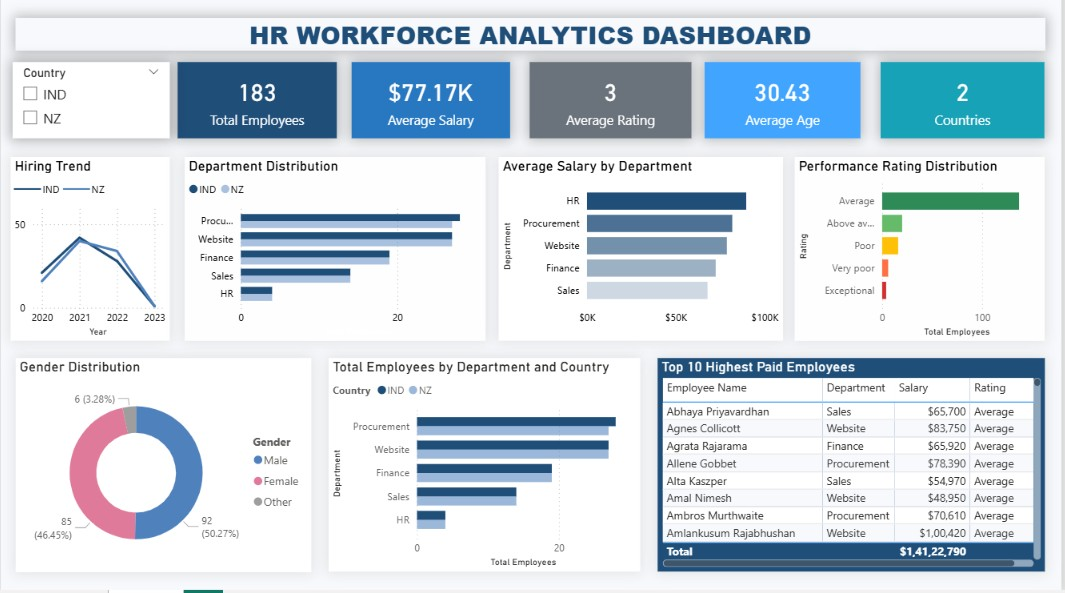

The dashboard page shown, as its layout file describes it:
{"tool":"powerbi","page":{"name":"Page 1","canvas":[1280,720],"ordinal":0},"visuals":[{"type":"textbox","title":"HR WORKFORCE ANALYTICS DASHBOARD","box":[17.7,29.6,1242,39],"z":0},{"type":"card","fields":{"Values":["Data.average salary"]},"box":[422.9,82.8,191,91.7],"z":1000},{"type":"card","fields":{"Values":["Data.Total Employees"]},"box":[212.9,82.8,192.2,91.7],"z":2000},{"type":"card","fields":{"Values":["Data.Average Age"]},"box":[849.3,83.2,188.2,91.7],"z":4000},{"type":"card","fields":{"Values":["Data.Average Rating"]},"box":[638.2,83.2,195.4,91.7],"z":5000},{"type":"card","fields":{"Values":["Data.Countries Count"]},"box":[1061.7,83.2,197.9,91.7],"z":6000},{"type":"lineChart","title":"Hiring Trend","fields":{"Category":["Data.Date Joined.Variation.Date Hierarchy.Year","Data.Date Joined.Variation.Date Hierarchy.Month","Data.Date Joined.Variation.Date Hierarchy.Day"],"Y":["Data.Total Employees"],"Series":["Data.Country"]},"box":[12.1,197.9,191.8,222],"z":7000},{"type":"clusteredBarChart","title":"Department Distribution","fields":{"Category":["Data.Department"],"Y":["Data.Total Employees"],"Series":["Data.Country"]},"box":[222,197.9,363.1,222],"z":8000},{"type":"clusteredBarChart","title":"Average Salary by Department","fields":{"Category":["Data.Department"],"Y":["Data.Average Salary"]},"box":[600.4,198.2,343.1,221.8],"z":9000},{"type":"clusteredBarChart","title":"Performance Rating Distribution","fields":{"Category":["Data.Rating"],"Y":["Data.Total Employees"]},"box":[958.2,198.2,301.7,221.8],"z":10000},{"type":"donutChart","title":"Gender Distribution","fields":{"Category":["Data.Gender"],"Y":["Data.Total Employees"]},"box":[18.1,440.4,357.1,258.2],"z":11000},{"type":"tableEx","title":"Top 10 Highest Paid Employees","fields":{"Values":["Data.Name","Data.Department","Sum(Data.Salary)","Data.Rating"]},"box":[792.6,440.7,467.3,257.3],"z":12000},{"type":"slicer","fields":{"Values":["Data.Country"]},"box":[14.8,82.8,189.3,91.7],"z":13000},{"type":"clusteredBarChart","fields":{"Y":["Data.Total Employees"],"Category":["Data.Department"],"Series":["Data.Country"]},"box":[396.3,440.7,375.6,257.3],"z":14000}]}

Visuals, with their boxes in screenshot pixels (x1, y1, x2, y2), scaled from the page's 1280x720 canvas onto the 1065x593 screenshot:
"HR WORKFORCE ANALYTICS DASHBOARD" textbox: 15,24,1048,56
card - Data.average salary: 352,68,511,144
card - Data.Total Employees: 177,68,337,144
card - Data.Average Age: 707,69,863,144
card - Data.Average Rating: 531,69,694,144
card - Data.Countries Count: 883,69,1048,144
"Hiring Trend" lineChart: 10,163,170,346
"Department Distribution" clusteredBarChart: 185,163,487,346
"Average Salary by Department" clusteredBarChart: 500,163,785,346
"Performance Rating Distribution" clusteredBarChart: 797,163,1048,346
"Gender Distribution" donutChart: 15,363,312,575
"Top 10 Highest Paid Employees" tableEx: 659,363,1048,575
slicer - Data.Country: 12,68,170,144
clusteredBarChart - Data.Total Employees x Data.Department: 330,363,642,575
